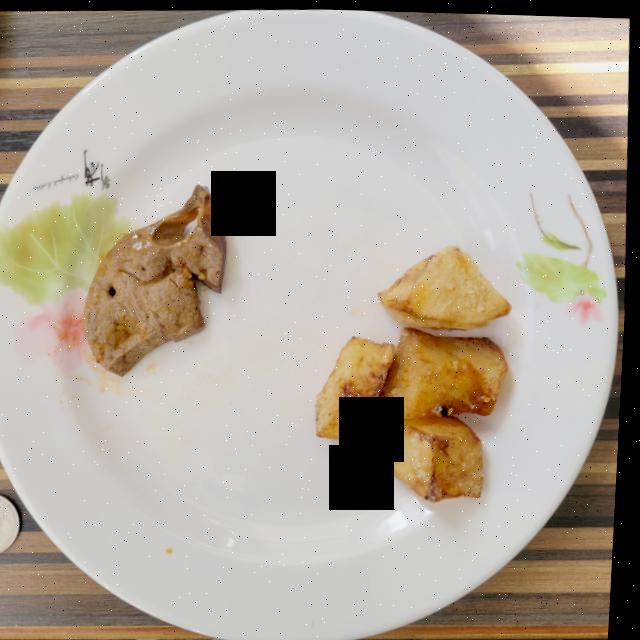coin: (0, 494, 24, 553)
fried potato: (319, 242, 513, 498)
pig liver: (86, 183, 227, 376)
